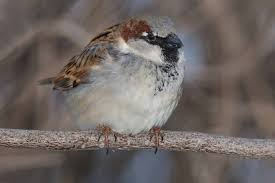hsparrow: (44, 10, 190, 153)
